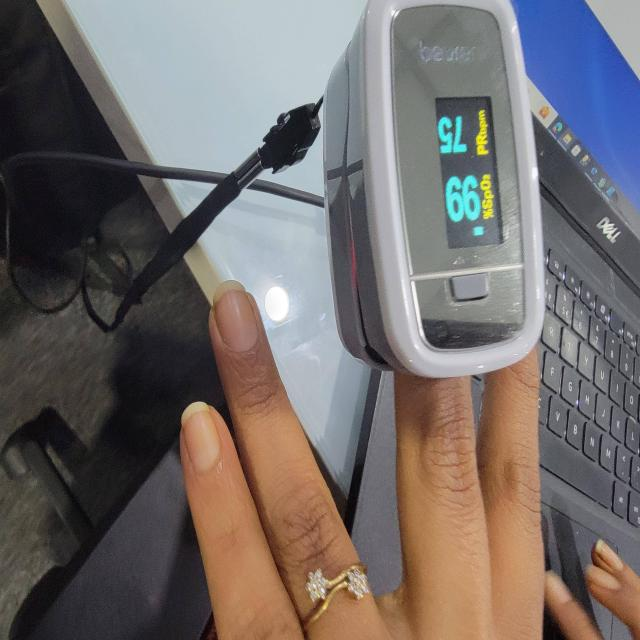spo2: (323, 0, 544, 381)
